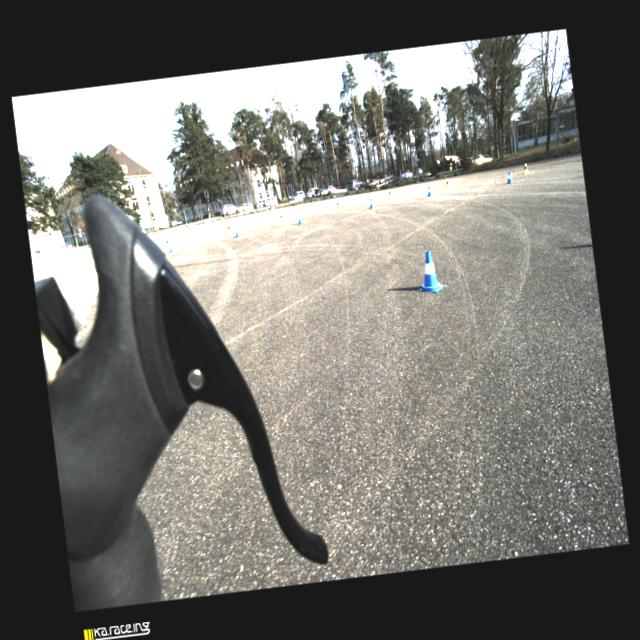blue_cone: (414, 248, 444, 294), (233, 225, 241, 238), (505, 170, 513, 183), (296, 212, 304, 224), (168, 240, 175, 252), (426, 184, 432, 197), (368, 197, 374, 209)
yellow_cone: (522, 162, 530, 174), (444, 176, 450, 188), (226, 221, 232, 233), (278, 212, 284, 222), (387, 188, 392, 198), (336, 200, 340, 208), (165, 238, 169, 246)
